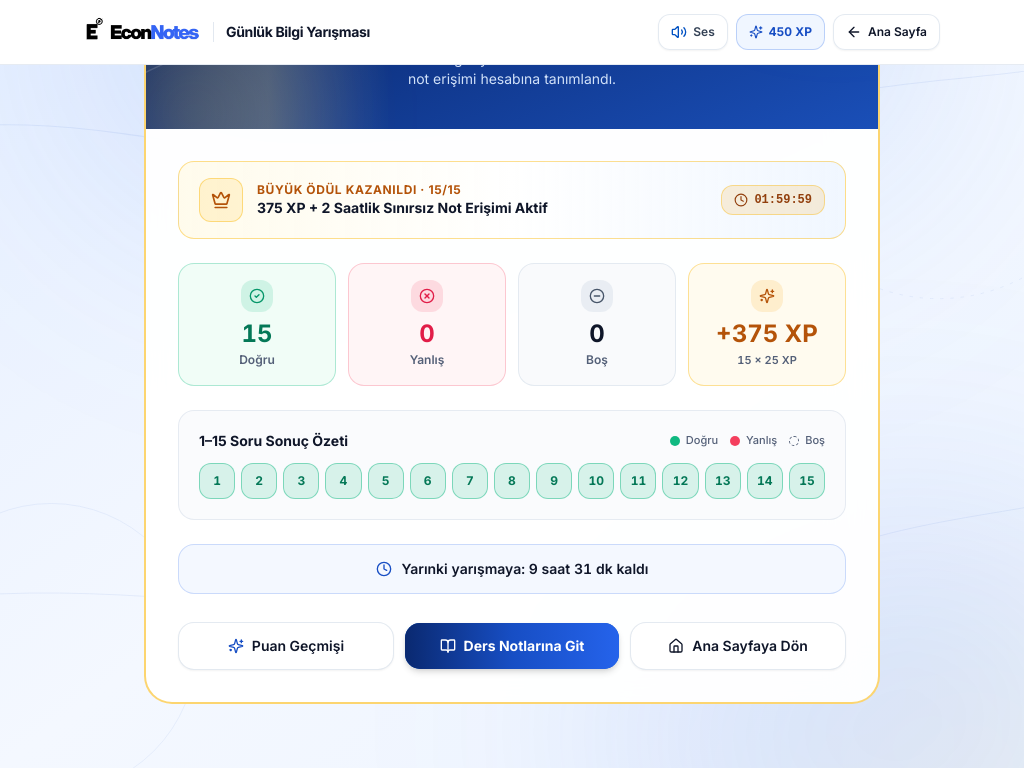
Test: Günlük Bilgi Yarışması Premium Tema & Kullanıcı Deneyimi Yenilemesi › renders 15/15 Completion Screen with Yarışma Tamamlandı, 375 XP Grand Prize showcase, 1-15 interactive summary, and all 3 actions
(page scrolled)
Check: the heading "Yarışma Tamamlandı" is shown, box [367, 7, 657, 43]
Check: the element with test id "trivia-grand-prize-panel" is shown, box [178, 161, 846, 239]
Click the button named "Soru 3: Doğru": (301, 480) [283, 462, 319, 498]
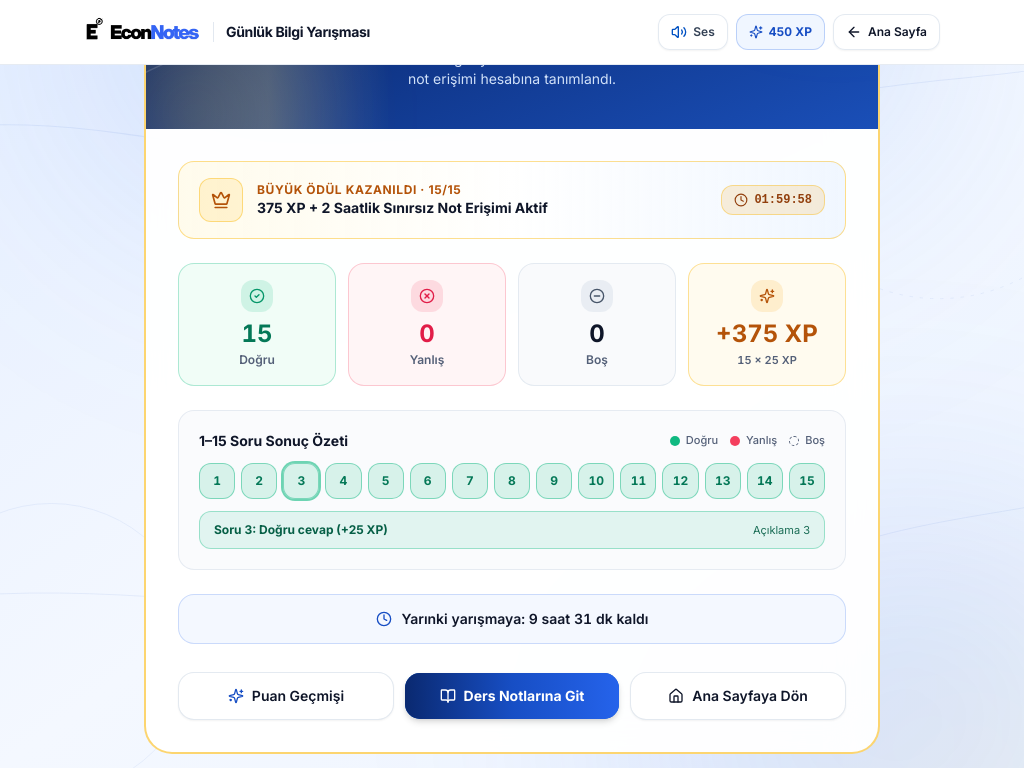
Check: the button "Puan Geçmişi" is shown, box [178, 672, 394, 720]
Check: the text "Soru 3: Doğru cevap (+25 XP)" is shown, box [214, 522, 388, 538]
